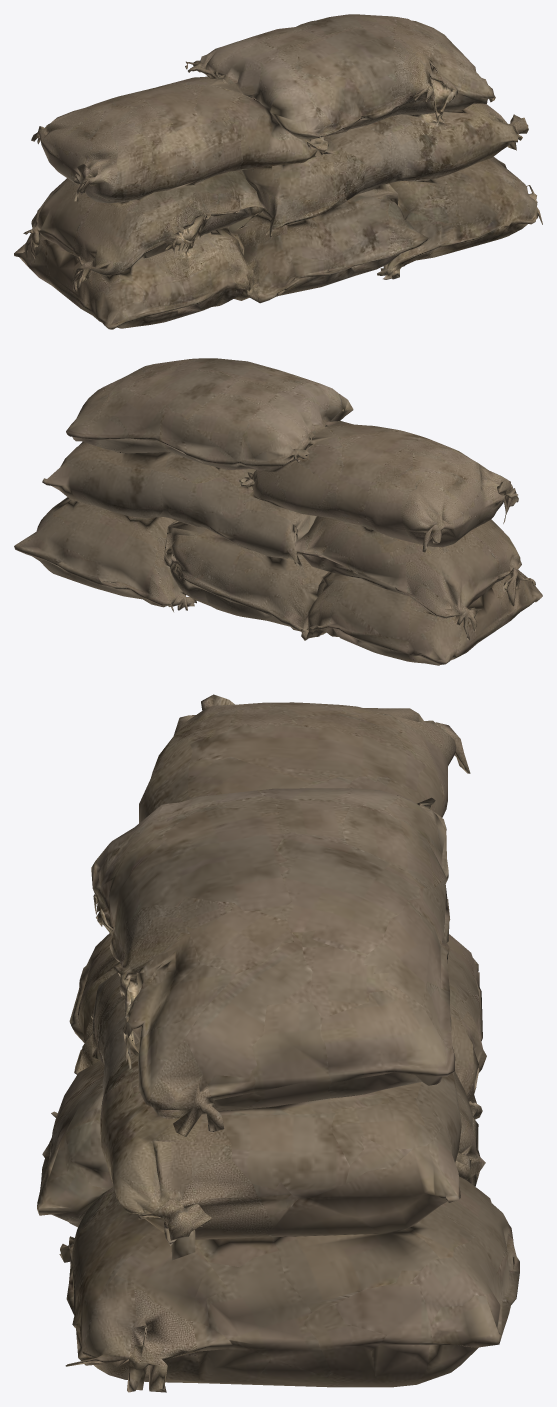
The model's file is sandbags.glb.
3 renders of one model, top to bottom at view 1: azimuth 30°, elevation 25°; view 2: azimuth 150°, elevation 25°; view 3: azimuth 270°, elevation 25°, orthographic. The views are drawn at different scales.
Bounding box in the file's own units: 1.9 × 0.825 × 0.8839.
Materials: 1 (1 with a texture image).
